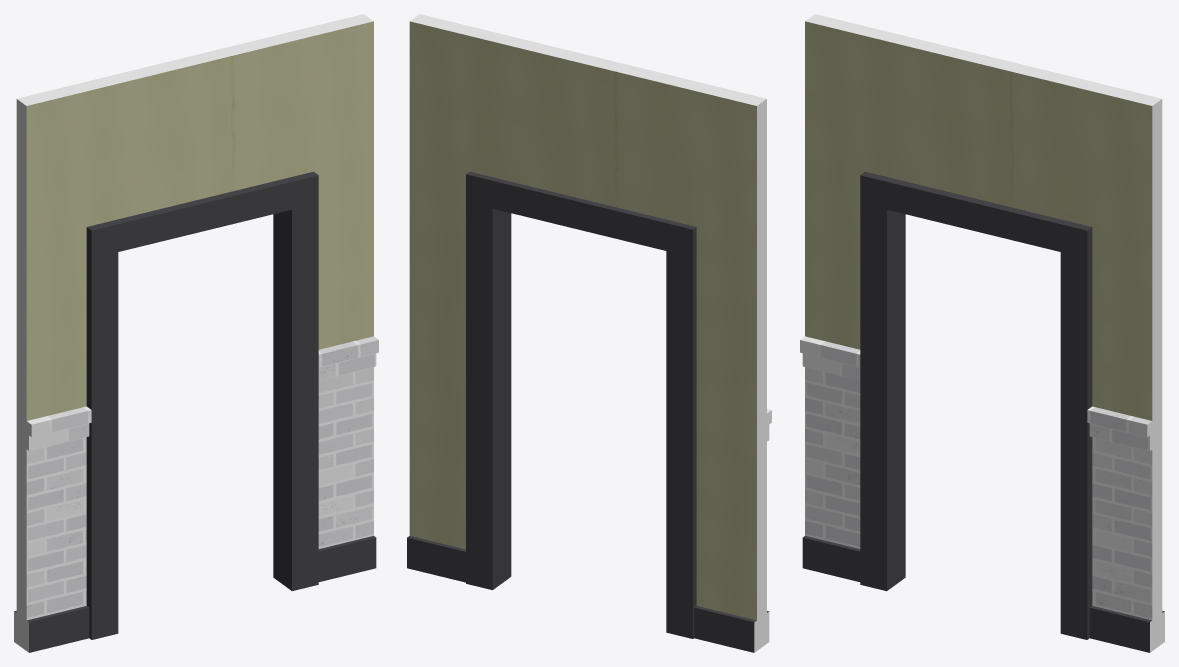
File: SM_Buildings_WallDoor_2x3_01_WallpaperBack.fbx
3 views of the same model, side by side, from view 1: azimuth 30°, elevation 25°; view 2: azimuth 150°, elevation 25°; view 3: azimuth 330°, elevation 25° (orthographic).
Parts seen in each view (by area): view 1: SM_Buildings_WallDoor_2x3_01_WallpaperBack; view 2: SM_Buildings_WallDoor_2x3_01_WallpaperBack; view 3: SM_Buildings_WallDoor_2x3_01_WallpaperBack.
Boxes of the visible parts, <box> form: SM_Buildings_WallDoor_2x3_01_WallpaperBack: <box>14,14,378,652</box>; SM_Buildings_WallDoor_2x3_01_WallpaperBack: <box>407,14,771,652</box>; SM_Buildings_WallDoor_2x3_01_WallpaperBack: <box>800,14,1164,652</box>.
Size of the model in its own units: 200 by 300 by 18.64.
1 material, 1 textured.
